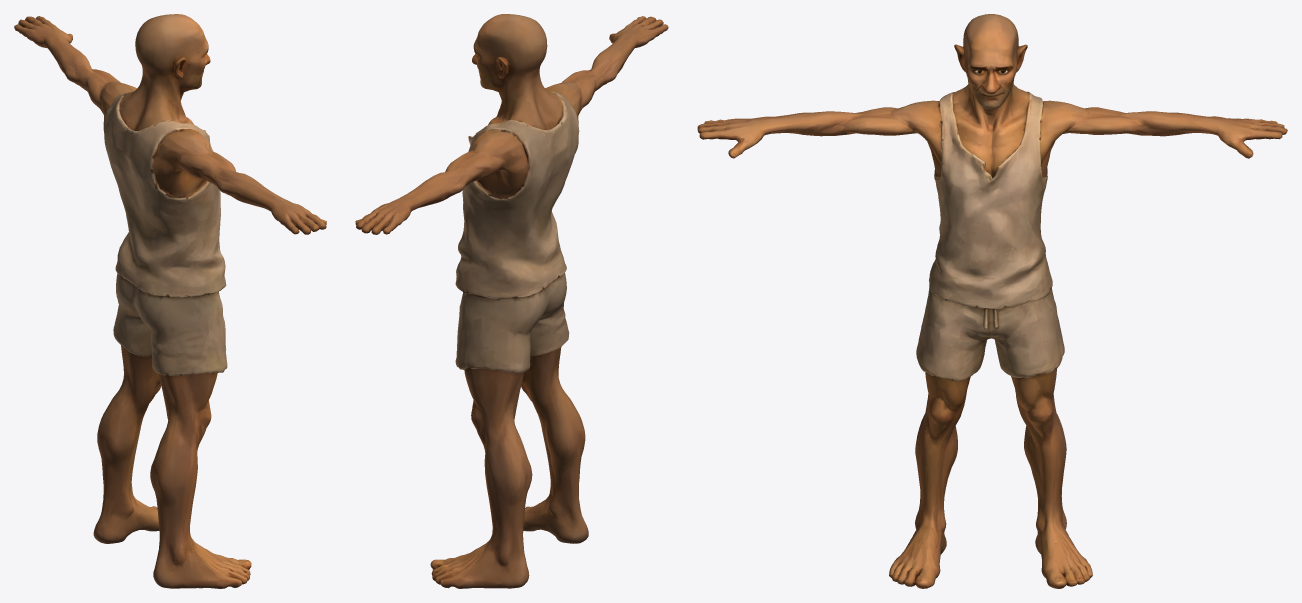
File: thin-model.glb
3 renders of one model, left to right at view 1: azimuth 30°, elevation 25°; view 2: azimuth 150°, elevation 25°; view 3: azimuth 270°, elevation 25°, orthographic.
Parts seen in each view (by area): view 1: tripo_node_aae91b8b-2205-4c94-b6e7-b2505bdd2233; view 2: tripo_node_aae91b8b-2205-4c94-b6e7-b2505bdd2233; view 3: tripo_node_aae91b8b-2205-4c94-b6e7-b2505bdd2233.
Boxes of the visible parts, x1,y1,x2,y2 form: tripo_node_aae91b8b-2205-4c94-b6e7-b2505bdd2233: (14,14,326,588); tripo_node_aae91b8b-2205-4c94-b6e7-b2505bdd2233: (355,14,668,588); tripo_node_aae91b8b-2205-4c94-b6e7-b2505bdd2233: (697,14,1287,588).
Bounding box in the file's own units: 0.1828 × 1 × 0.9699.
Materials: 1 (1 with a texture image).
